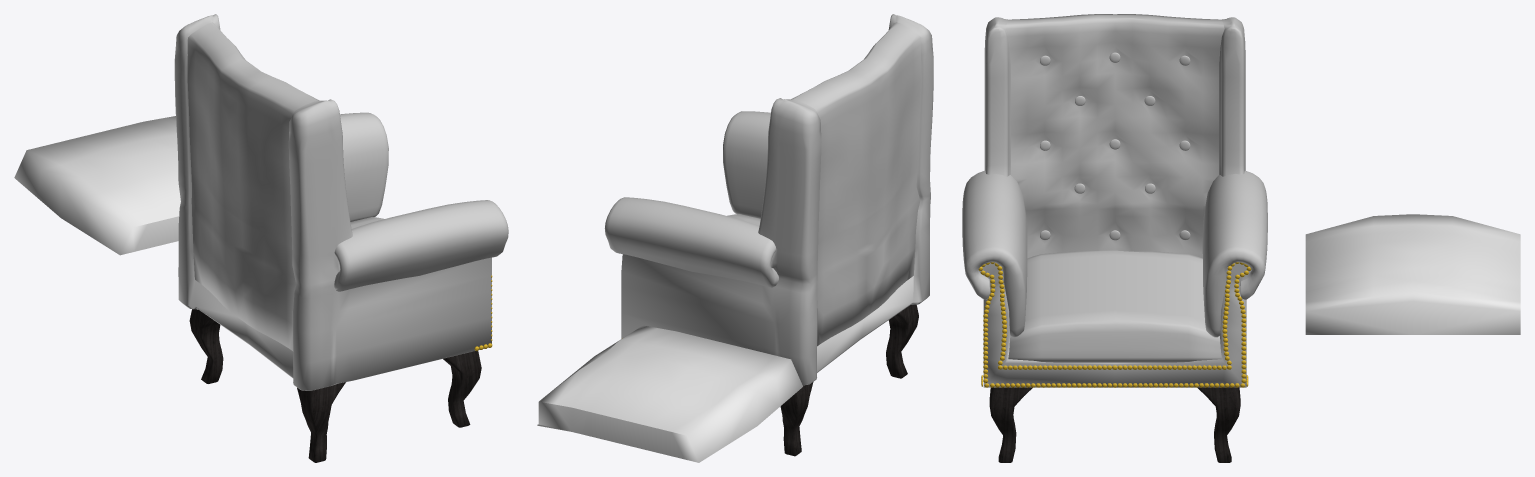
Rendered from armchair.fbx.
The picture shows the model from 3 angles, left to right: view 1: azimuth 30°, elevation 25°; view 2: azimuth 150°, elevation 25°; view 3: azimuth 270°, elevation 25°; orthographic projection. The views are drawn at different scales.
Visible parts, largest first — view 1: Plane, Plane.002, Plane.001, Cube; view 2: Plane, Plane.002, Plane.001, Cube; view 3: Plane, Plane.002, Plane.003, Plane.001, Cylinder.001, Cube, Plane.004.
Part boxes in pixels (left/top/right/bottom): Plane: left=174, top=14, right=491, bottom=390; Plane.002: left=14, top=116, right=180, bottom=255; Plane.001: left=334, top=112, right=508, bottom=291; Cube: left=189, top=309, right=481, bottom=462; Plane: left=621, top=14, right=933, bottom=385; Plane.002: left=537, top=325, right=802, bottom=462; Plane.001: left=604, top=111, right=778, bottom=287; Cube: left=780, top=305, right=918, bottom=456; Plane: left=978, top=14, right=1251, bottom=387; Plane.002: left=1305, top=214, right=1520, bottom=334; Plane.003: left=1008, top=250, right=1221, bottom=362; Plane.001: left=962, top=170, right=1267, bottom=337; Cylinder.001: left=978, top=262, right=1251, bottom=387; Cube: left=989, top=387, right=1240, bottom=462; Plane.004: left=1040, top=52, right=1190, bottom=240.
Bounding box in the file's own units: 326 × 491 × 675.
